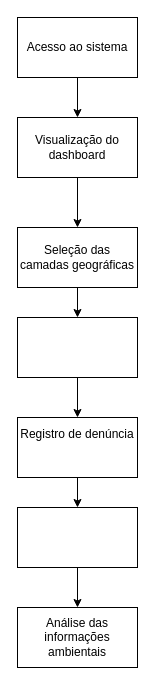
The diagram is 155 pixels wide and 688 high, and some of its shapes have lost their labels. The shapes that lost their labels are listed below. From the top down, each one's centre as x and y in pixels, then its label:
At point (77, 347): "Consulta das regiões afetadas".
At point (77, 537): "Atualização do mapa e gráficos".
